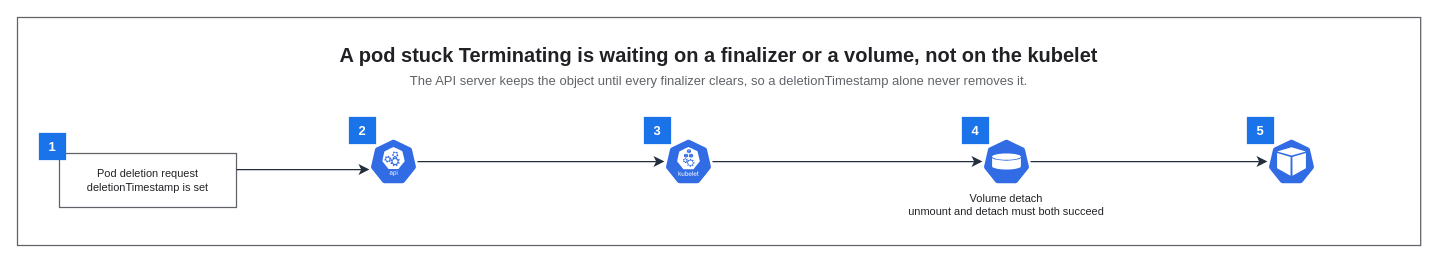
This 1439x264 diagram has some shape labels left out. Each missing label, with the centre of its shape:
"API server waits for finalizers to clear" goes at point 393,161.
"Node kubelet SIGTERM, then SIGKILL at the grace period" goes at point 688,161.
"Pod object removed only after every step completes" goes at point 1291,161.
